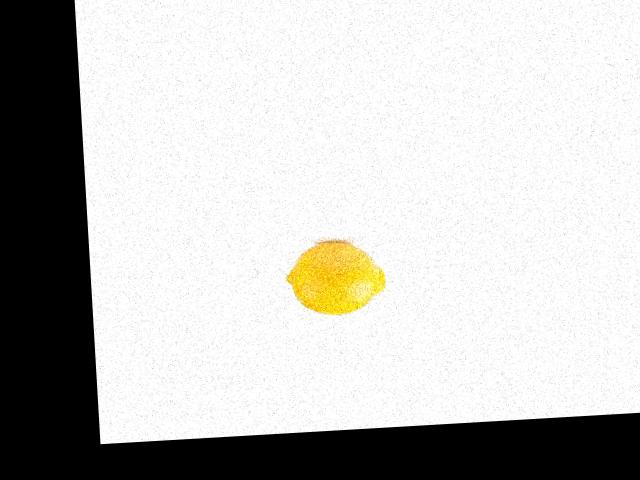lemon: (279, 241, 396, 321)
